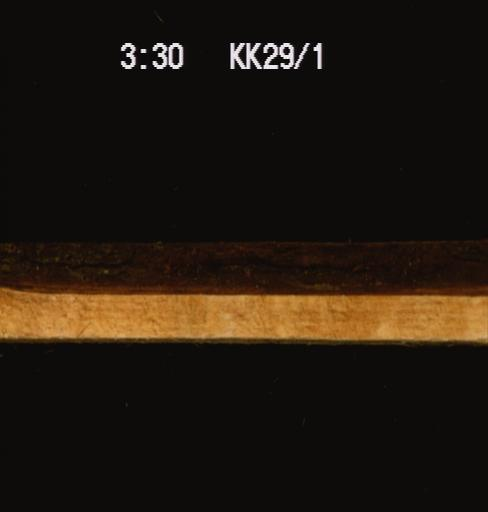wave: (0, 242, 487, 301)
